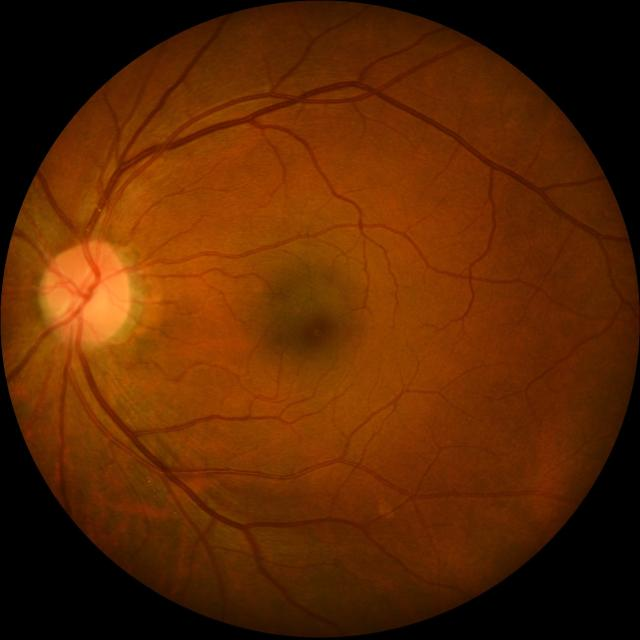OC: (71, 278, 109, 318)
OD: (43, 241, 128, 342)
